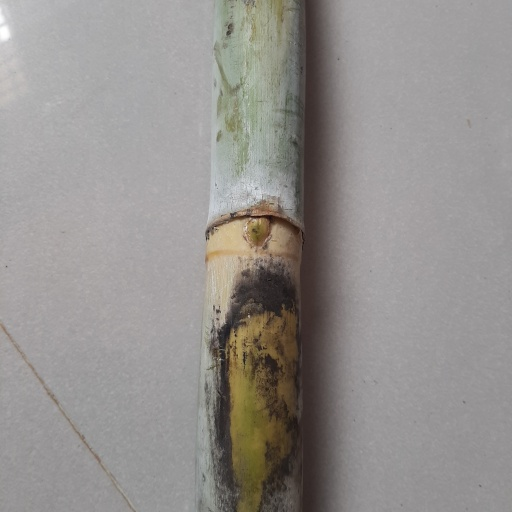Bud: (243, 217, 274, 251)
